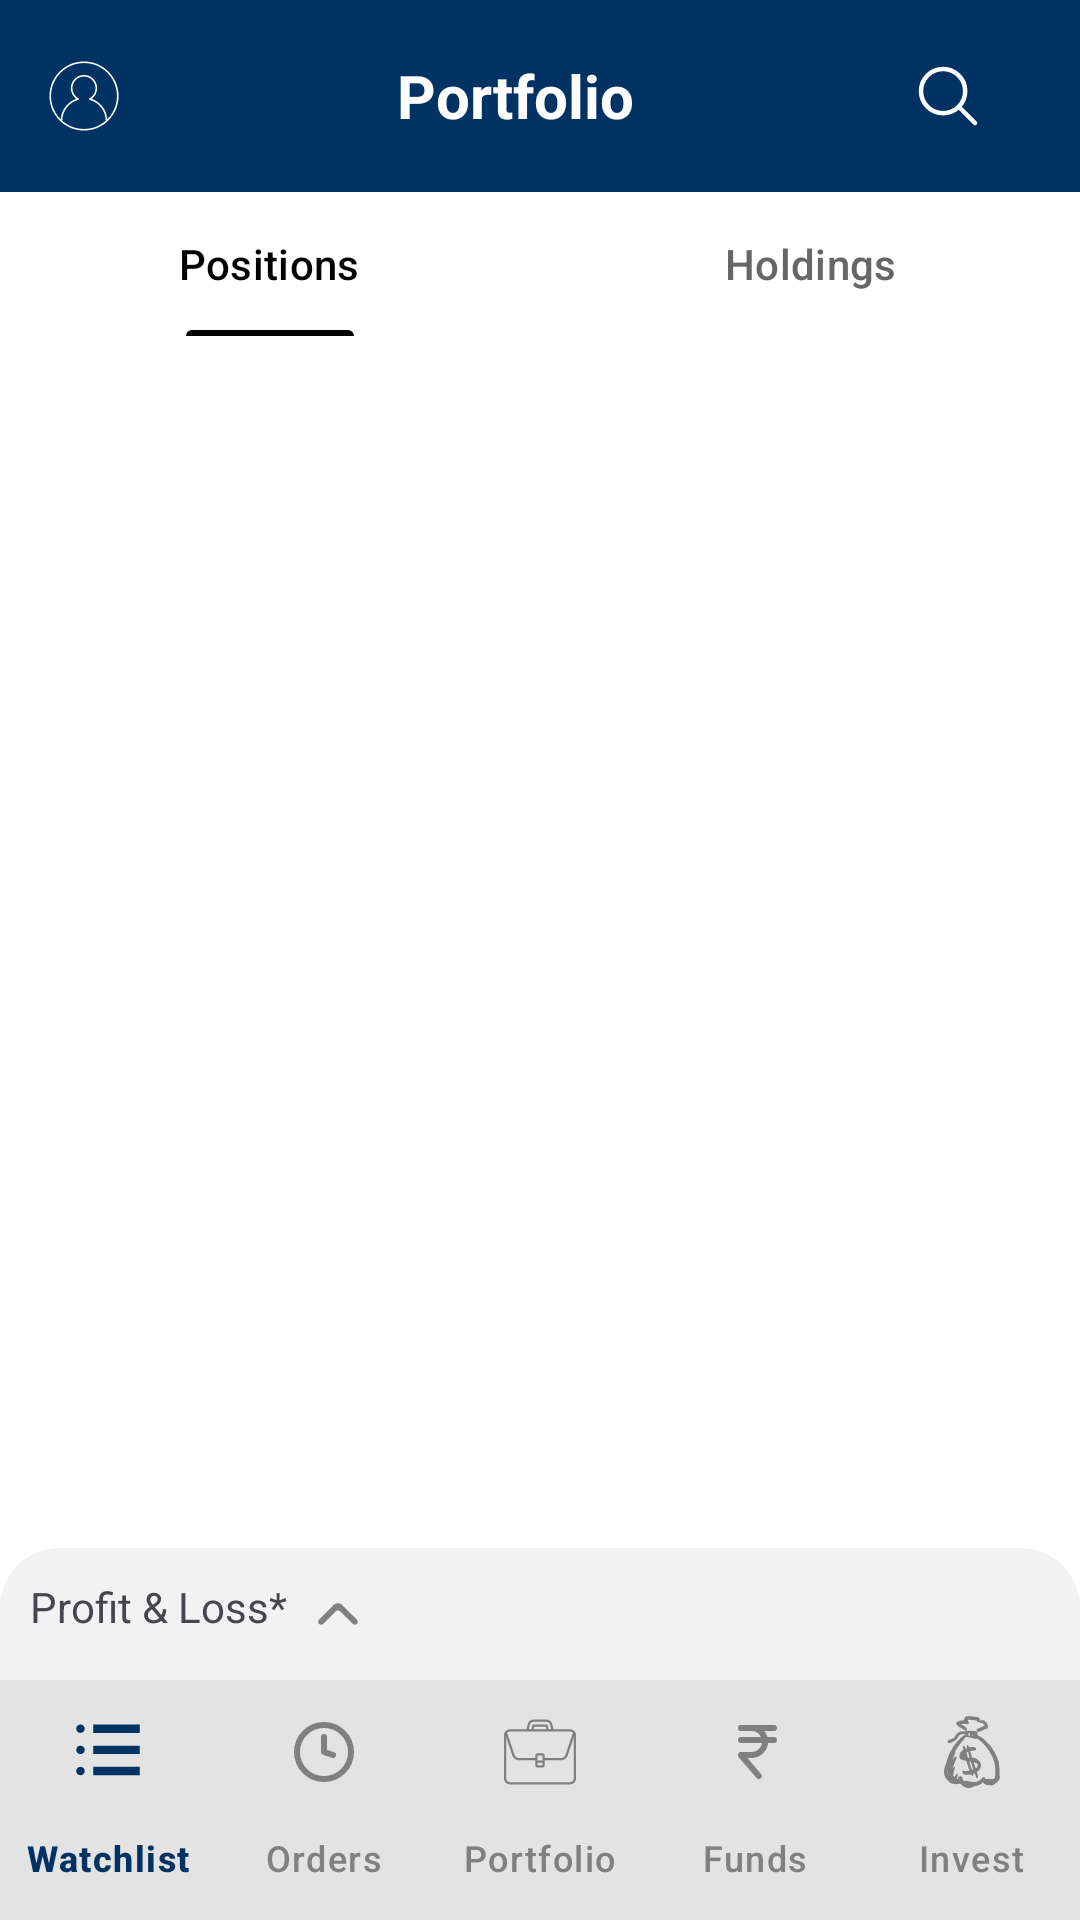

Named icons in this screenshot (1080×1920) and their centers, point (x, y):
profile: point (84, 96)
search: point (948, 96)
